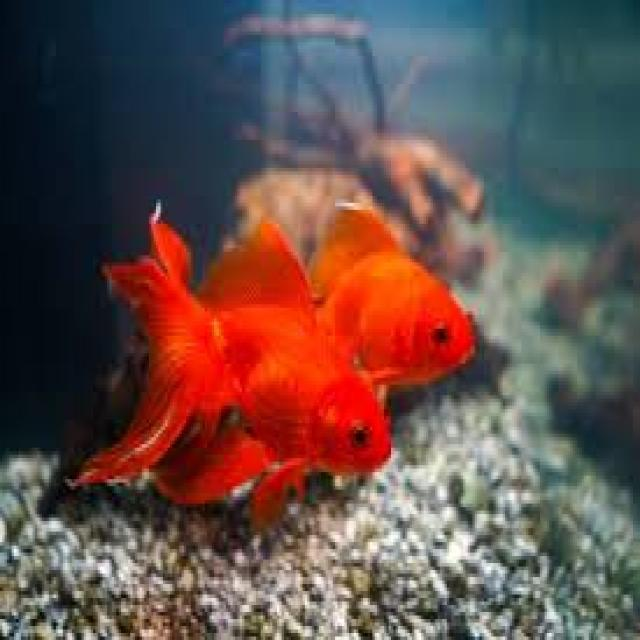goldfish: (125, 227, 395, 502)
